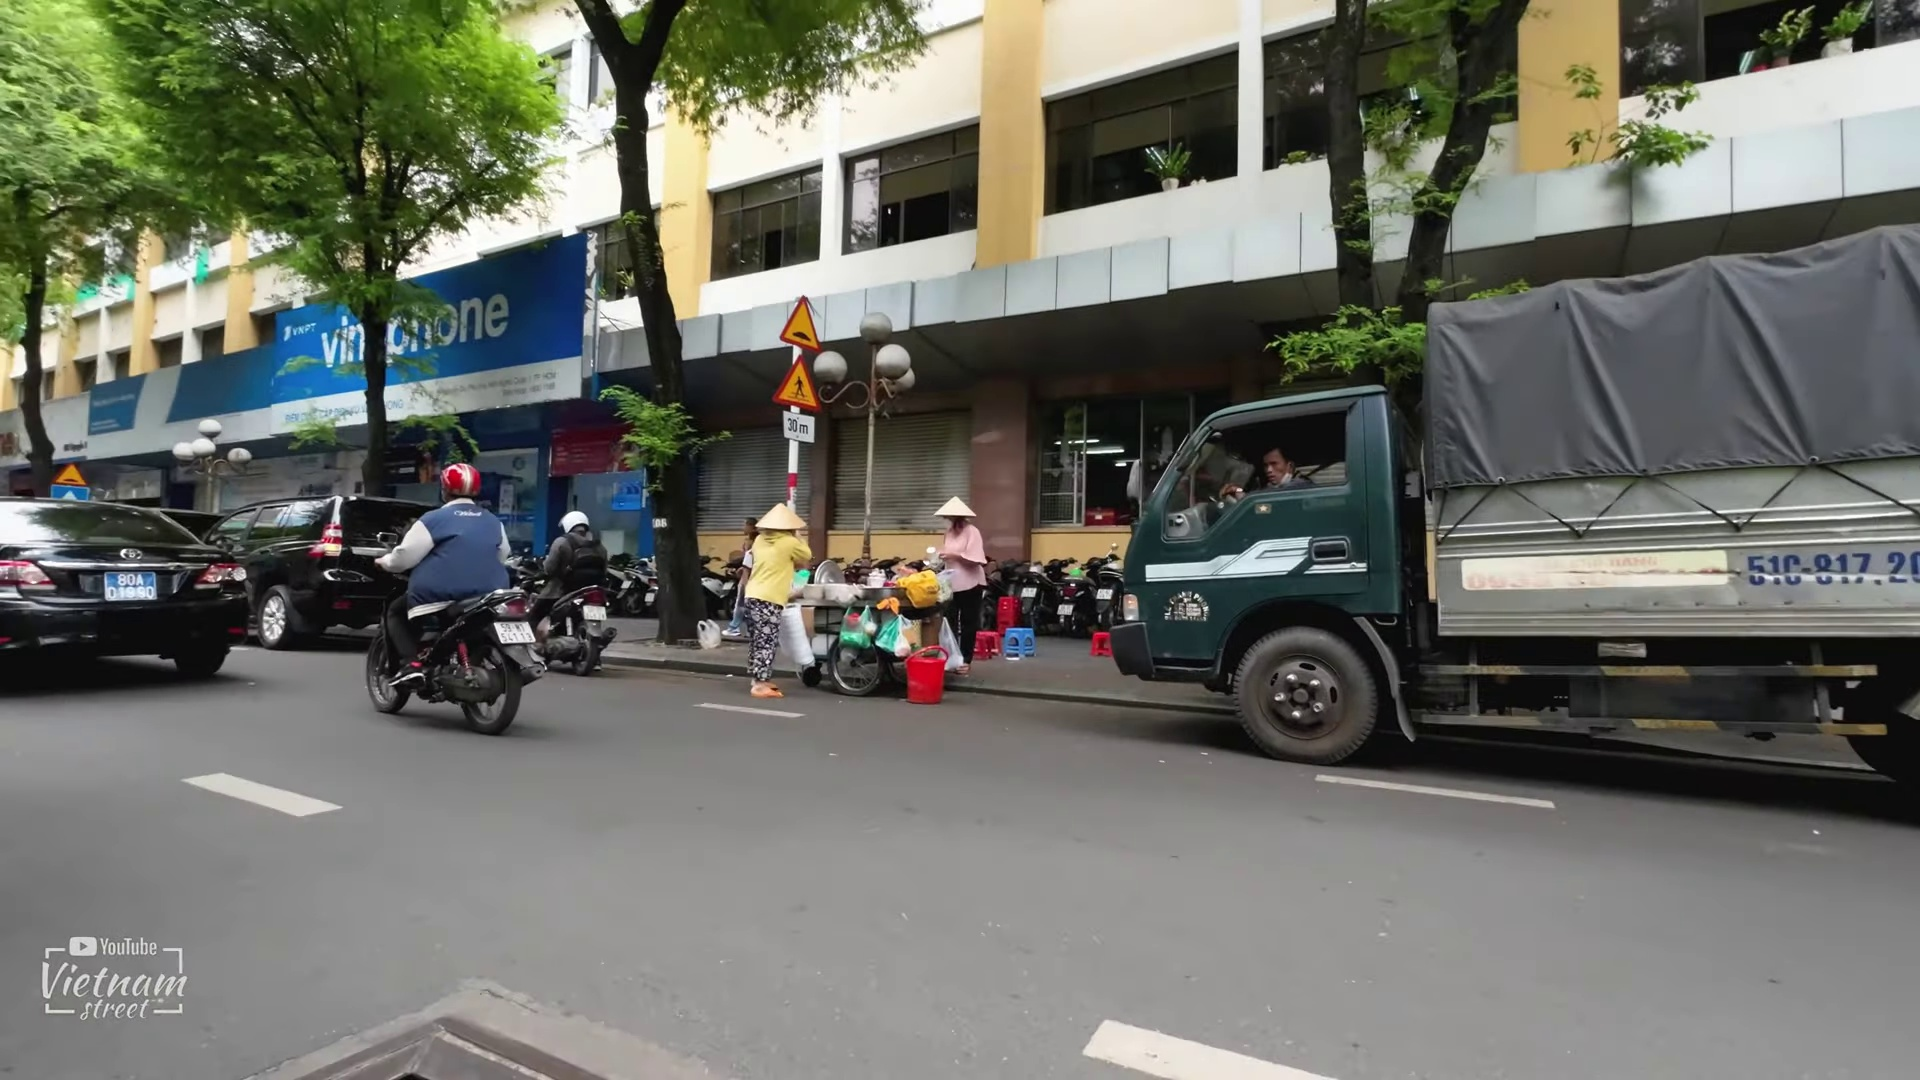can_than_nguoi_qua_duong: (771, 351, 824, 413)
